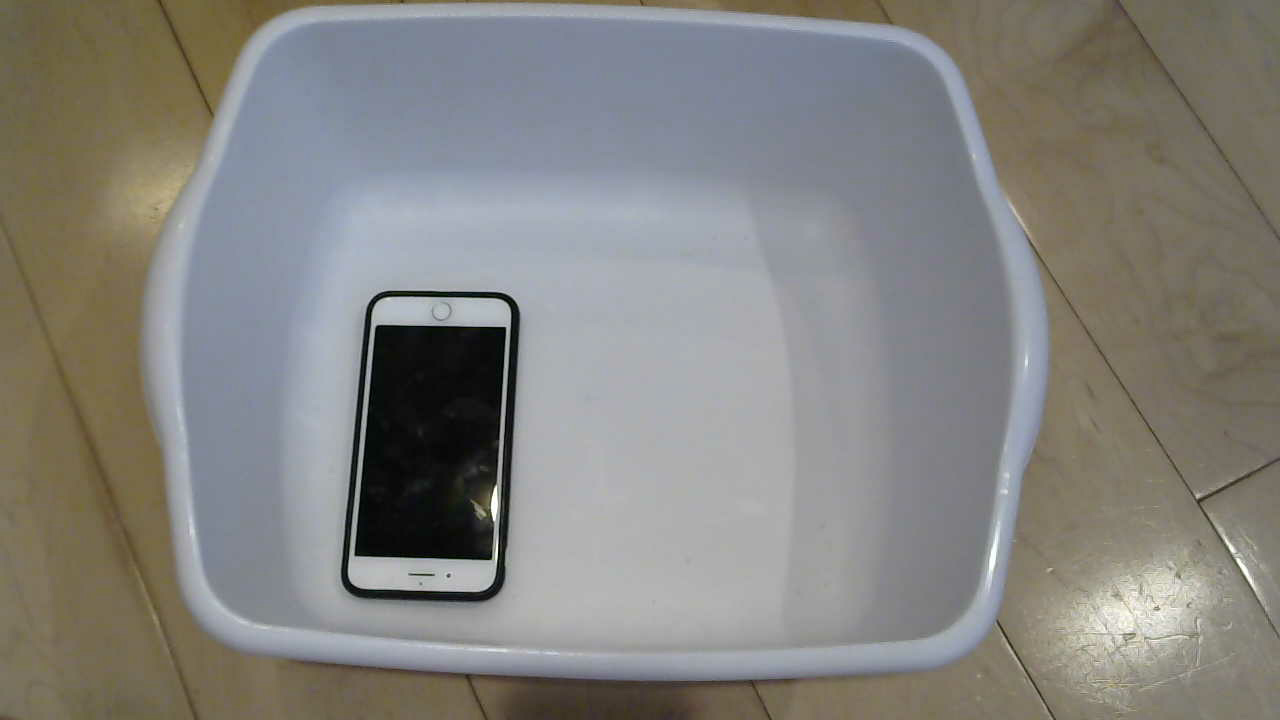phone: (344, 292, 529, 613)
